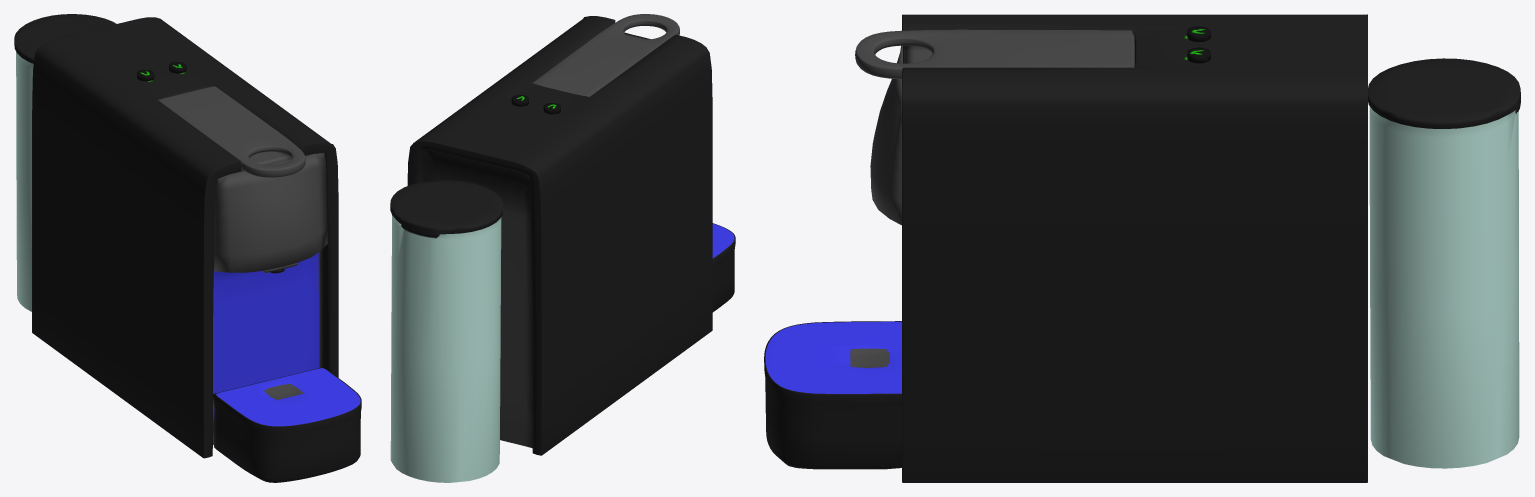
Rendered from Essenza.fbx.
The picture shows the model from 3 angles, left to right: view 1: azimuth 30°, elevation 25°; view 2: azimuth 150°, elevation 25°; view 3: azimuth 270°, elevation 25°; orthographic projection. The views are drawn at different scales.
Parts seen in each view (by area): view 1: Essenza, Essenza1; view 2: Essenza, Essenza1; view 3: Essenza, Essenza1.
Boxes of the visible parts, left/top/right/bottom form: Essenza: left=32, top=17, right=361, bottom=482; Essenza1: left=14, top=14, right=116, bottom=311; Essenza: left=407, top=14, right=735, bottom=455; Essenza1: left=390, top=180, right=503, bottom=482; Essenza: left=764, top=14, right=1367, bottom=482; Essenza1: left=1368, top=58, right=1520, bottom=468.
Size of the model in its own units: 4 by 8.36 by 14.34.
Materials: 2 (2 with a texture image).
